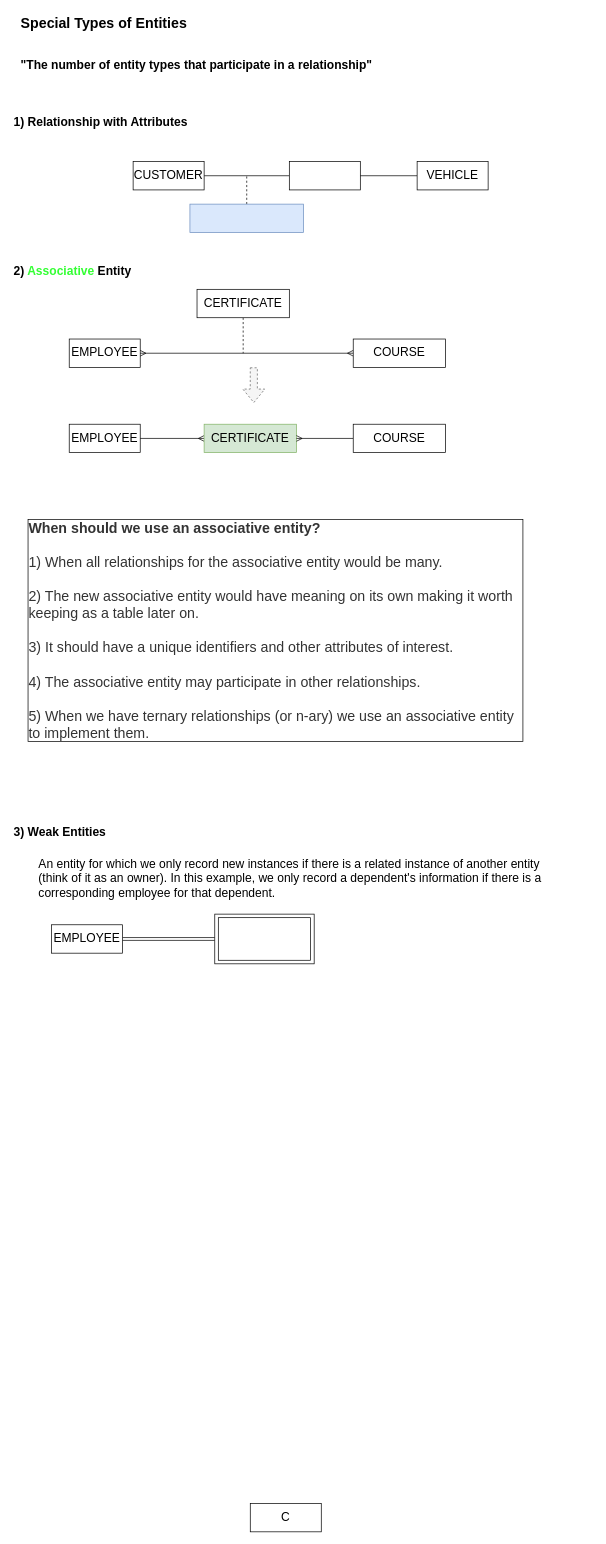
The diagram is 606 pixels wide and 1544 high, and some of its shapes have lost their labels. The box of each missing label's shape, as (x1, y1, x2, y2) in pixels:
Date_Reserved: (189, 203, 304, 233)
DEPENDENT: (214, 913, 314, 964)
ORDER: (289, 161, 360, 190)
